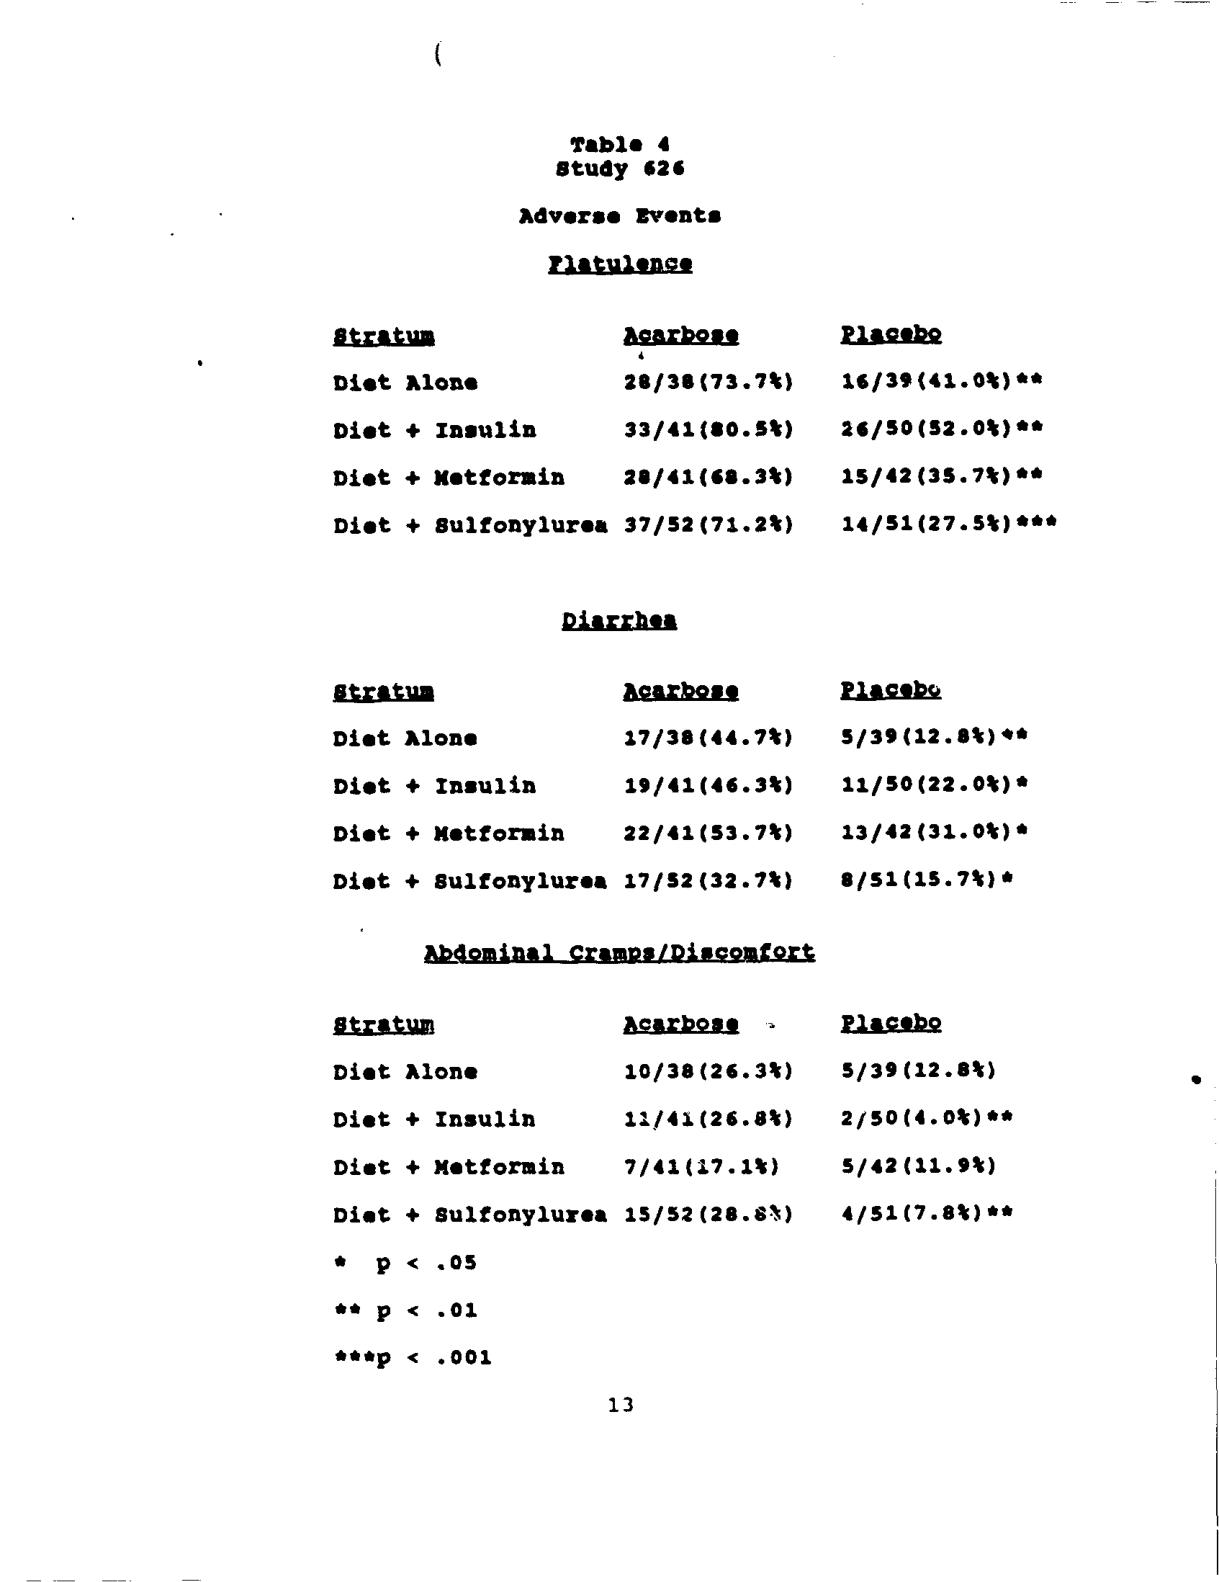nolines: (329, 323, 1060, 538), (329, 677, 1032, 893), (332, 1012, 1018, 1227)
